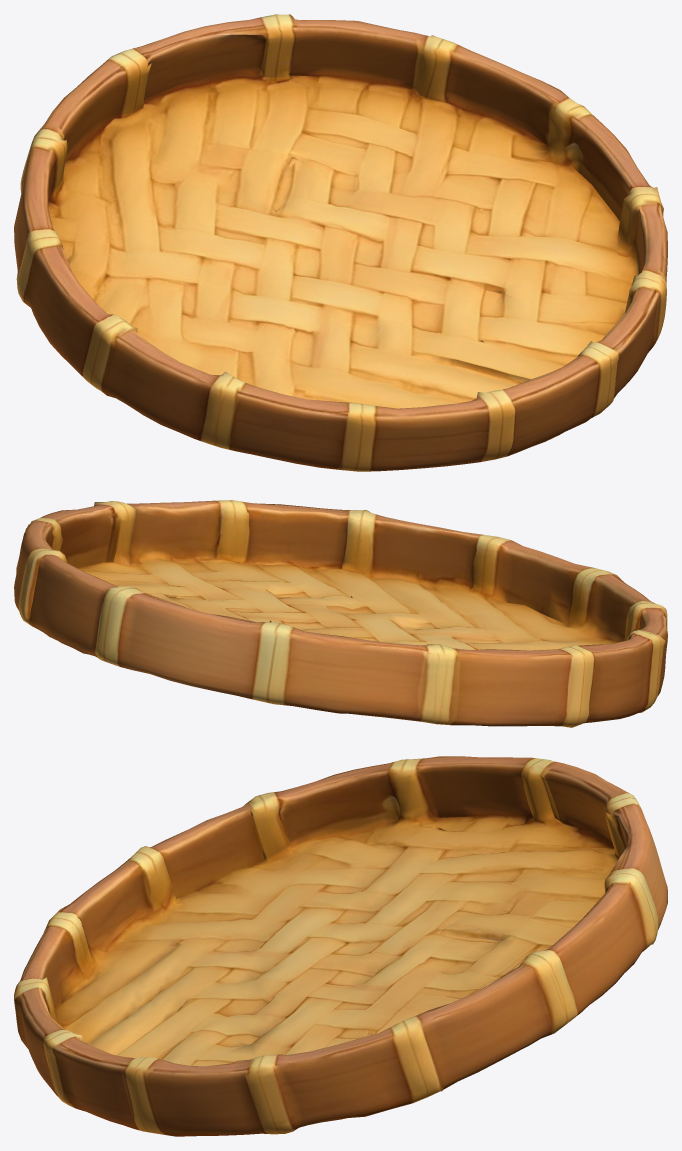
File: kadong.glb
3 views of the same model, one above another, from view 1: azimuth 30°, elevation 25°; view 2: azimuth 150°, elevation 25°; view 3: azimuth 270°, elevation 25° (orthographic).
Visible parts, largest first — view 1: tripo_node_e285eeca-791e-4555-b5a3-709a93c35a9a; view 2: tripo_node_e285eeca-791e-4555-b5a3-709a93c35a9a; view 3: tripo_node_e285eeca-791e-4555-b5a3-709a93c35a9a.
Boxes of the visible parts, x1,y1,x2,y2 form: tripo_node_e285eeca-791e-4555-b5a3-709a93c35a9a: [14, 14, 667, 471]; tripo_node_e285eeca-791e-4555-b5a3-709a93c35a9a: [14, 500, 667, 727]; tripo_node_e285eeca-791e-4555-b5a3-709a93c35a9a: [14, 756, 667, 1136].
Bounding box in the file's own units: 0.9989 × 0.3508 × 0.9707.
Materials: 1 (1 with a texture image).
